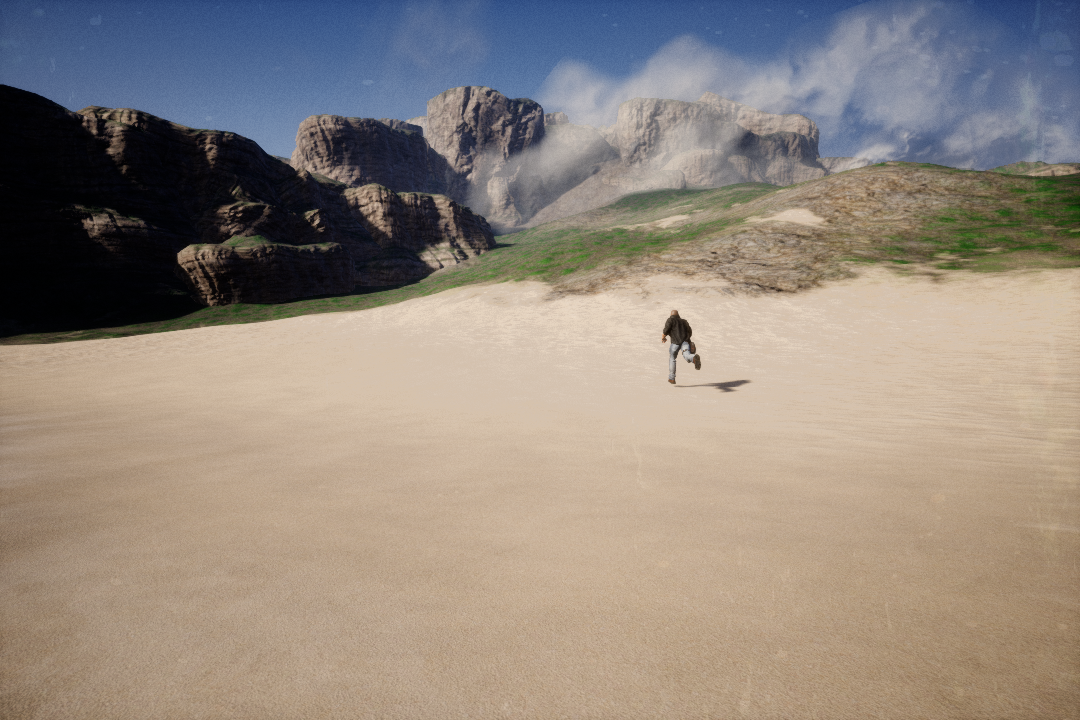person: (654, 304, 709, 389)
